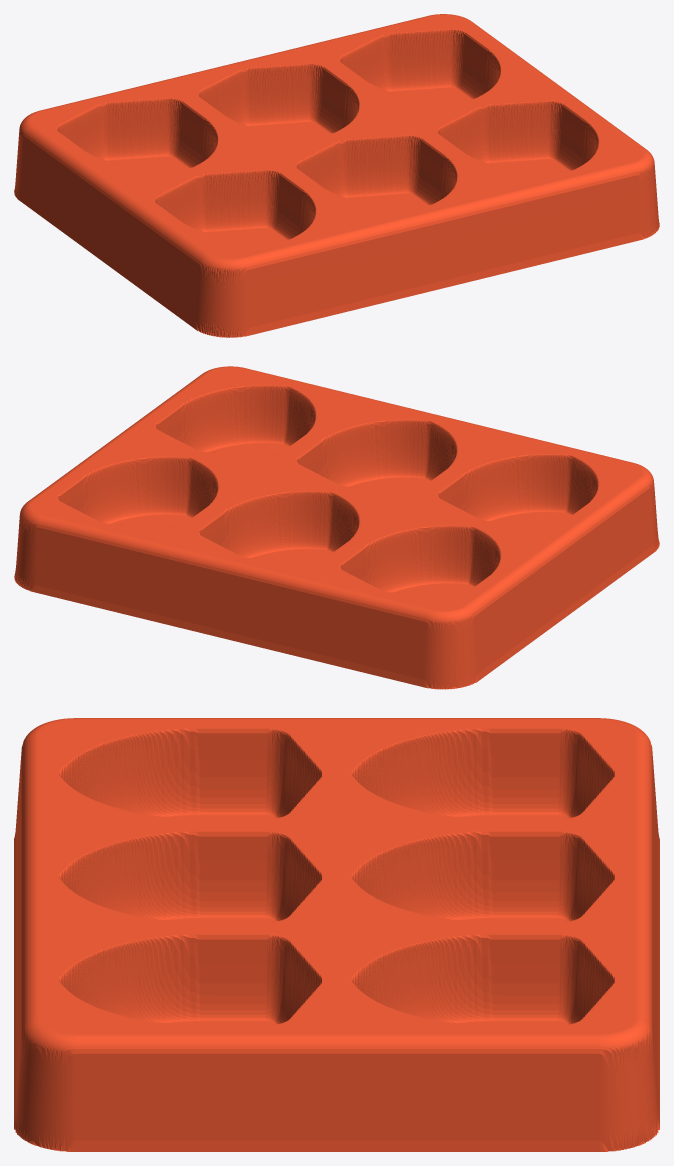
File: mold.glb
The picture shows the model from 3 angles, top to bottom: view 1: azimuth 30°, elevation 25°; view 2: azimuth 150°, elevation 25°; view 3: azimuth 270°, elevation 25°; orthographic projection. The views are drawn at different scales.
Parts seen in each view (by area): view 1: geometry_0; view 2: geometry_0; view 3: geometry_0.
Part boxes in pixels (bbox=[...]): geometry_0: bbox=[14, 14, 659, 337]; geometry_0: bbox=[14, 366, 659, 689]; geometry_0: bbox=[14, 718, 659, 1151].
Size of the model in its own units: 0.1172 by 0.0175 by 0.0955.
